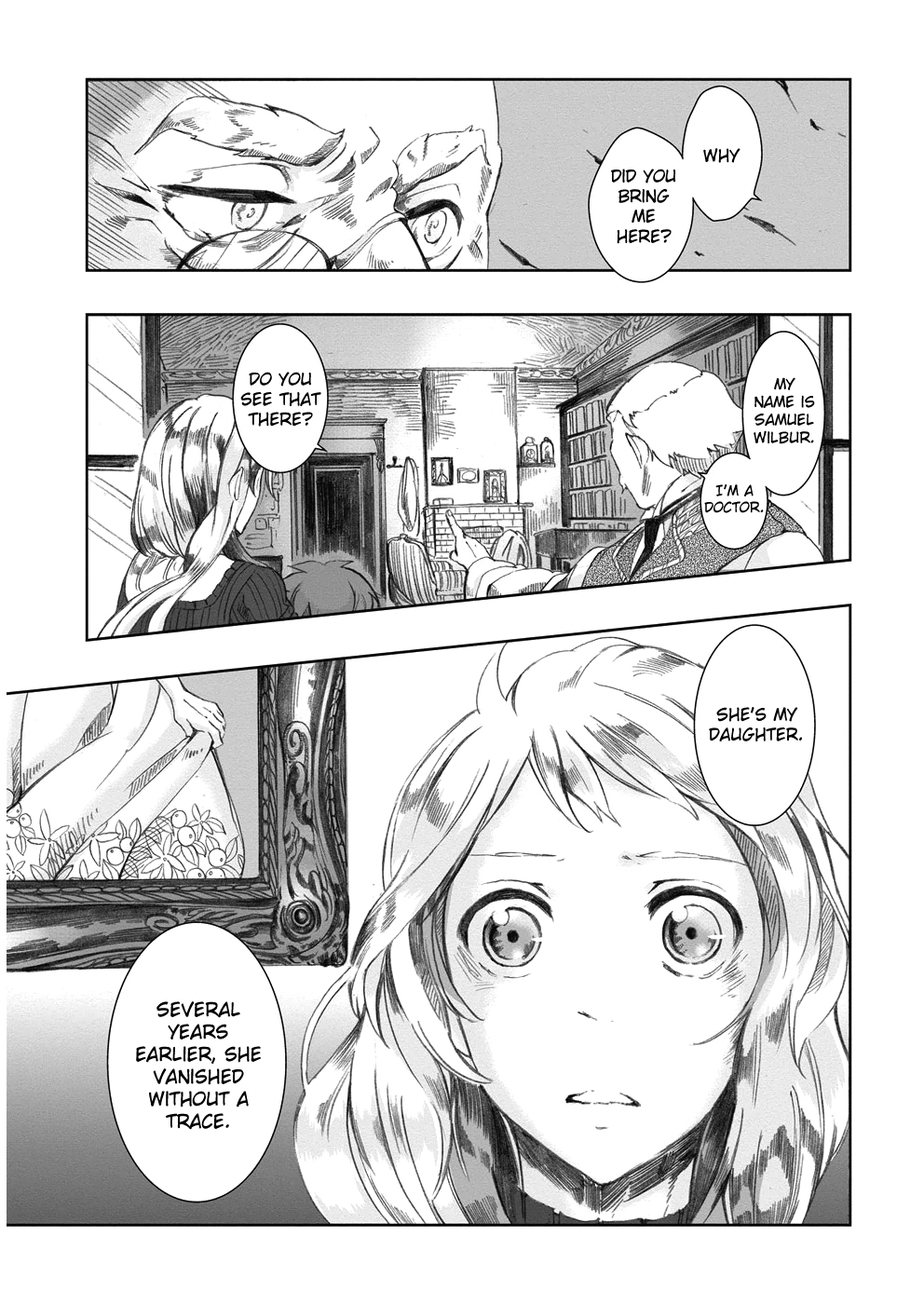bubble: (106, 922, 288, 1204), (695, 624, 815, 827), (589, 128, 694, 283), (233, 324, 329, 474), (744, 331, 826, 497), (683, 85, 762, 222), (698, 451, 769, 548)
